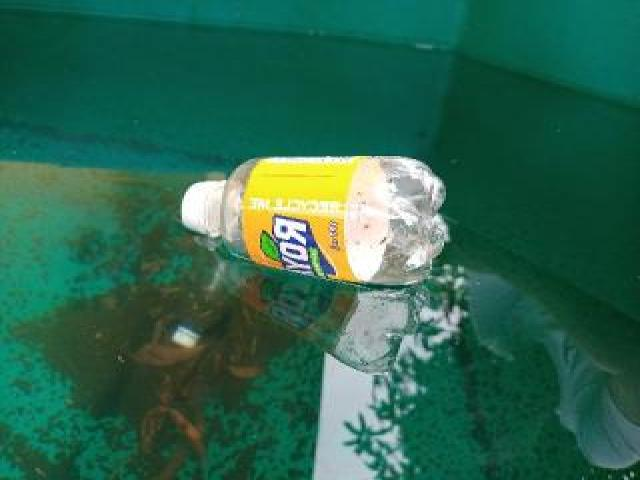Bottle: (170, 148, 456, 290)
